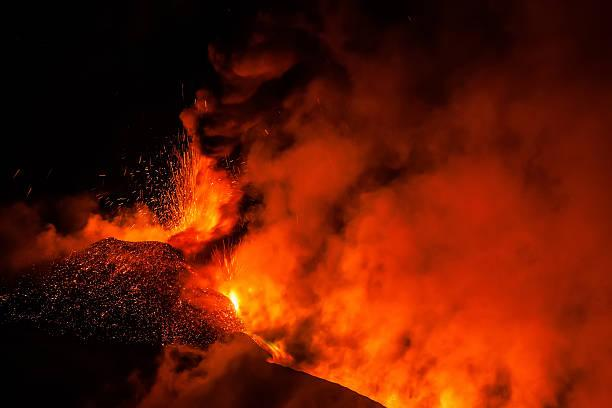Fire: (158, 46, 587, 396)
